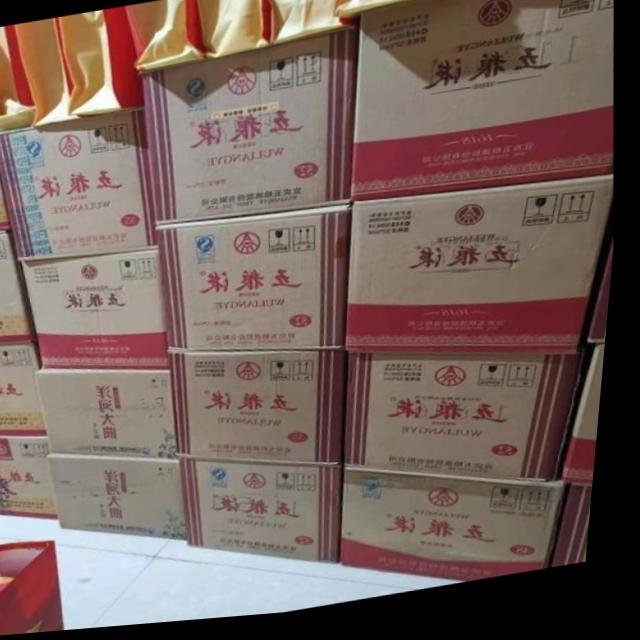box: (355, 0, 617, 208), (350, 187, 616, 365), (142, 33, 359, 227), (352, 360, 592, 491), (161, 210, 354, 355), (351, 472, 575, 590), (0, 109, 163, 261), (175, 353, 354, 469), (26, 253, 175, 372), (189, 460, 351, 569), (43, 370, 185, 464), (53, 455, 195, 544), (571, 354, 612, 496), (0, 437, 66, 521), (0, 343, 54, 437), (0, 229, 41, 343), (0, 174, 12, 230)
